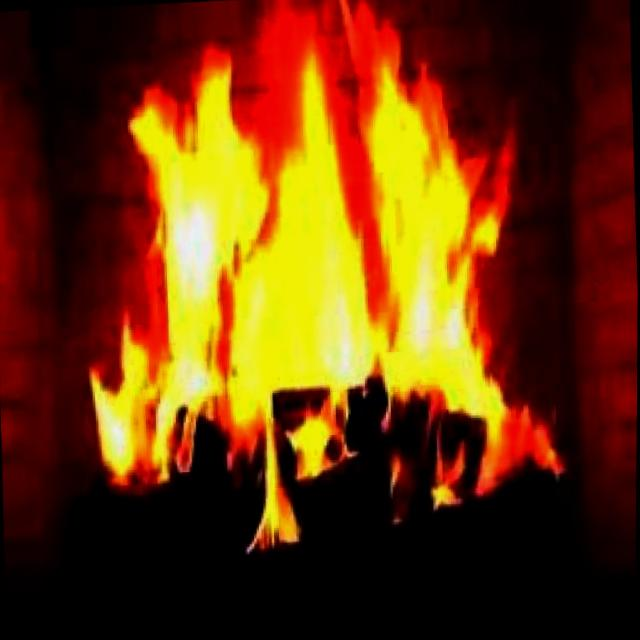Fire: (67, 0, 588, 565)
